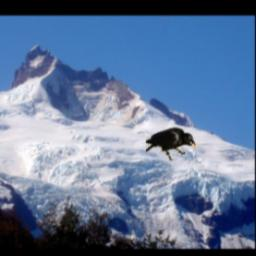Crow: (145, 128, 196, 161)
